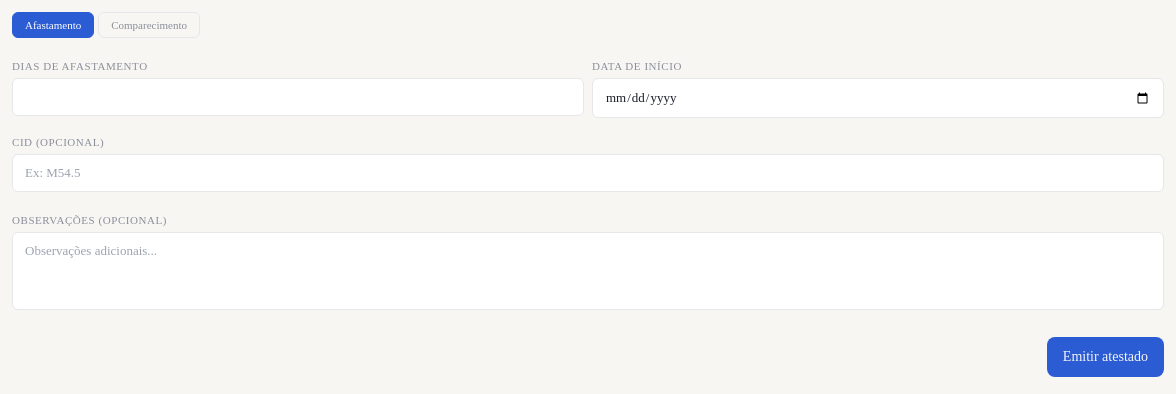
Test: AtestadoForm (integration) › switches to comparecimento fields when clicking Comparecimento tab
Click the button with test id "atestado-form-type-attendance". click: (149, 25)
box: [98, 12, 200, 38]
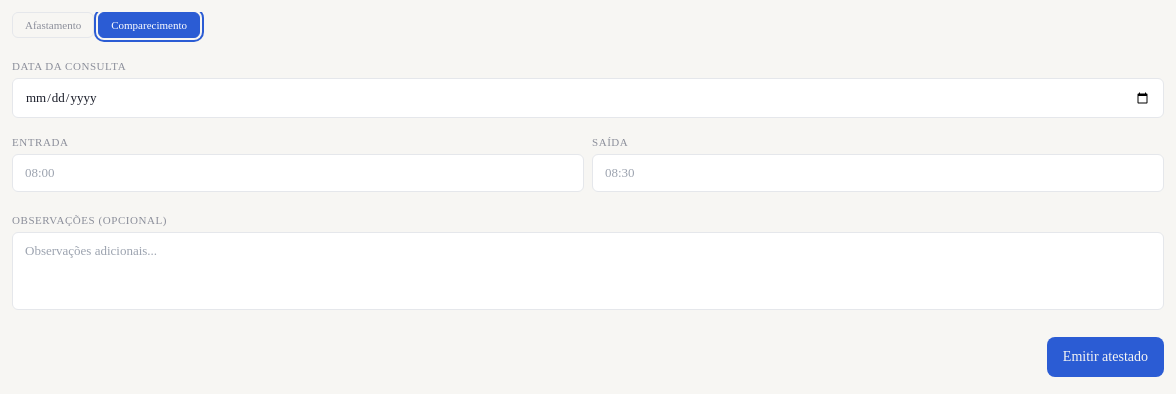
Expected: the date field with test id "atestado-form-attendance-date" is shown, [12, 78, 1164, 118]
Expected: the field with test id "atestado-form-check-in-time" is shown, [12, 154, 584, 192]
Expected: the field with test id "atestado-form-check-out-time" is shown, [592, 154, 1164, 192]
